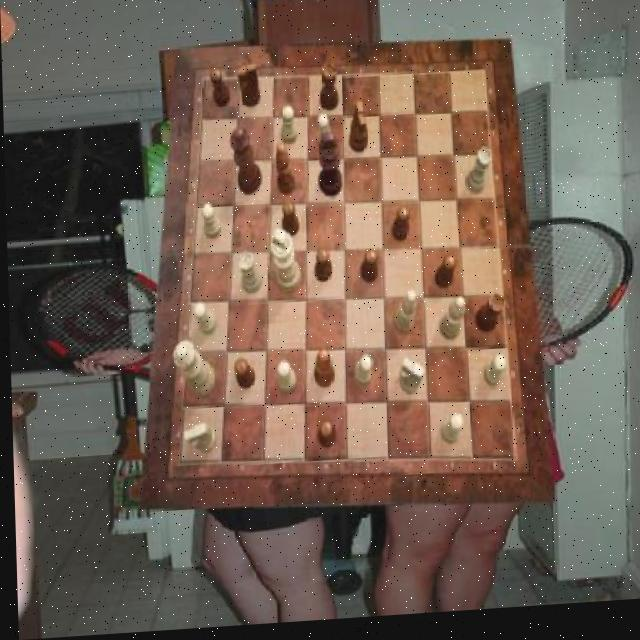bishop: (274, 146, 294, 200), (311, 354, 333, 393)
black-bishop: (315, 135, 341, 201)
black-king: (236, 65, 260, 111), (347, 106, 367, 159)
black-knight: (208, 71, 229, 111), (432, 261, 455, 296), (389, 211, 409, 247), (232, 361, 252, 393), (358, 253, 376, 288), (312, 252, 330, 287), (281, 205, 298, 242), (314, 425, 332, 453)
black-pawn: (229, 130, 260, 199)
black-queen: (473, 300, 504, 339), (319, 69, 339, 117)
black-rook: (436, 304, 464, 348), (391, 294, 416, 341)
white-bishop: (268, 231, 300, 298)
white-king: (180, 425, 214, 458), (395, 362, 421, 401)
white-knight: (190, 305, 214, 340), (436, 419, 460, 452), (482, 362, 505, 395), (274, 365, 294, 398), (315, 118, 332, 156), (351, 360, 371, 392), (200, 206, 218, 241), (280, 111, 296, 150)
white-pawn: (170, 342, 214, 401)
white-queen: (464, 155, 491, 202), (236, 255, 260, 298)
